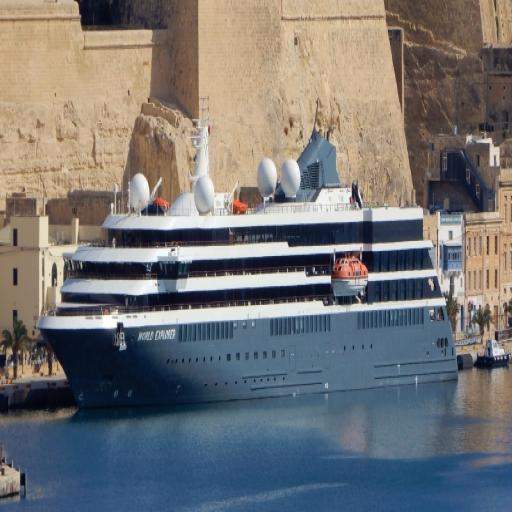cruises: (35, 121, 462, 417)
